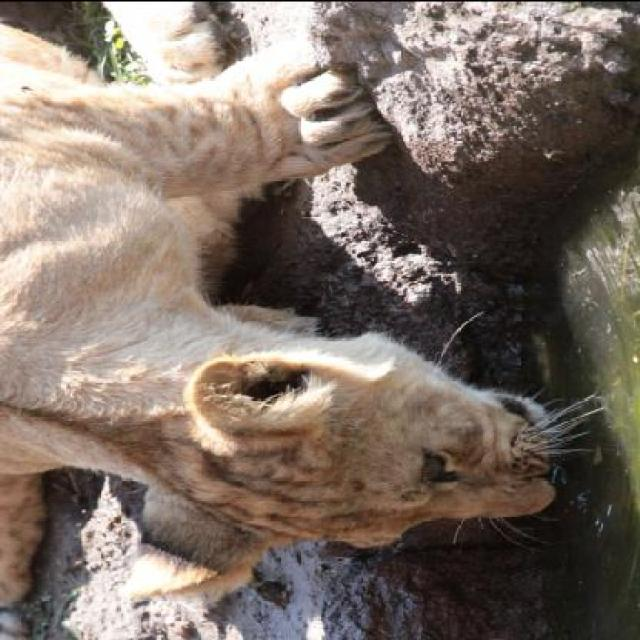Lion: (3, 2, 572, 623)
